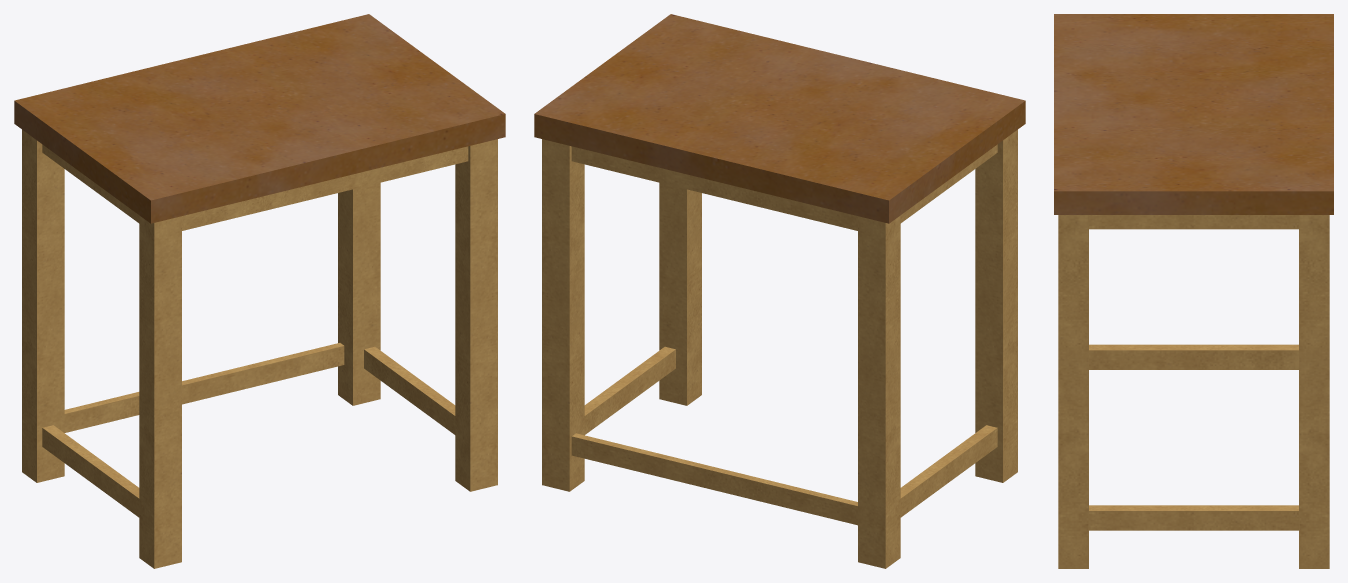
File: ClassRoomTable_2.fbx
3 views of the same model, side by side, from view 1: azimuth 30°, elevation 25°; view 2: azimuth 150°, elevation 25°; view 3: azimuth 270°, elevation 25° (orthographic). The views are drawn at different scales.
Visible parts, largest first — view 1: TeacherTable_2; view 2: TeacherTable_2; view 3: TeacherTable_2.
Part boxes in pixels (x1,y1,x2,y2): TeacherTable_2: (14, 14, 505, 568); TeacherTable_2: (534, 14, 1025, 568); TeacherTable_2: (1054, 14, 1333, 568).
Bounding box in the file's own units: 0.9 × 0.9 × 0.6.
